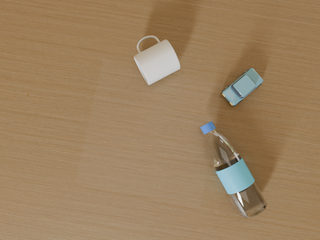bottle: (200, 121, 267, 218)
cup: (134, 36, 180, 85)
toy_car: (222, 68, 263, 106)
